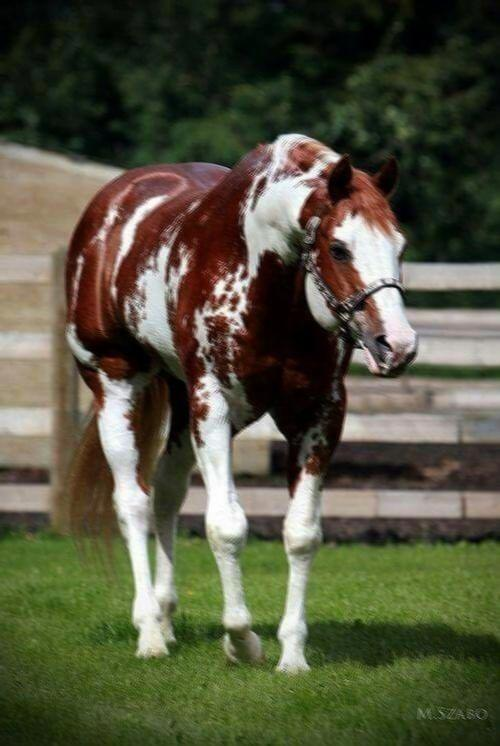horse: (60, 131, 418, 675)
